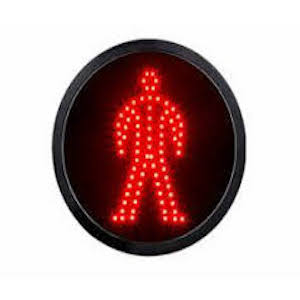red: (108, 59, 193, 232)
